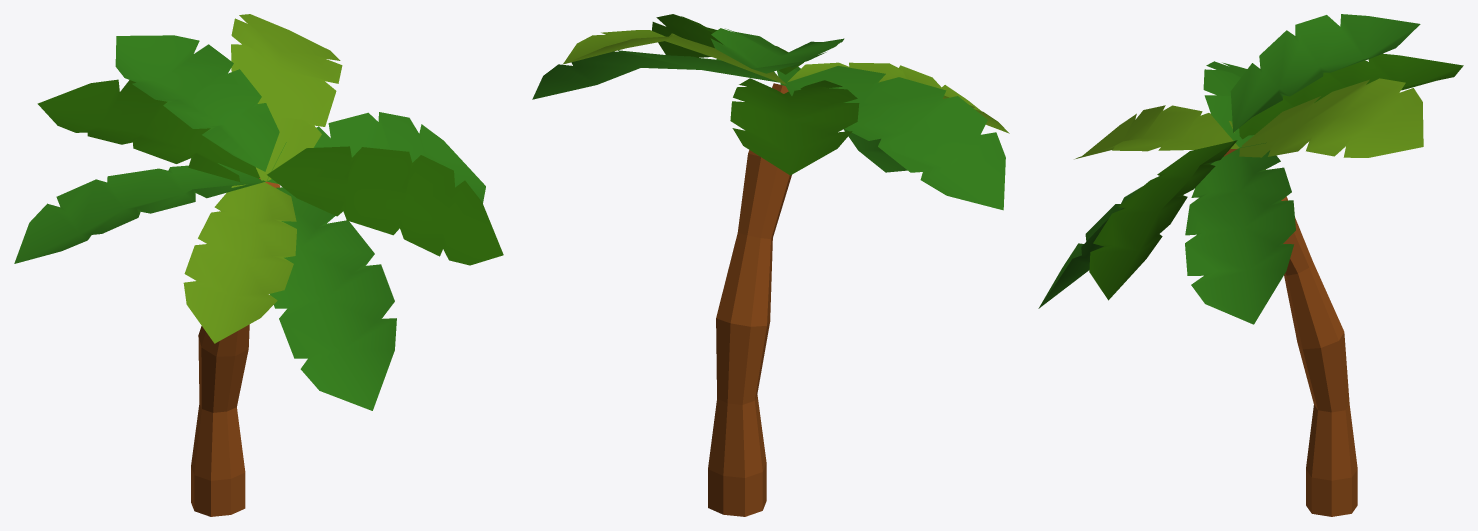
The model's file is Palmera.fbx.
3 renders of one model, left to right at view 1: azimuth 30°, elevation 25°; view 2: azimuth 150°, elevation 25°; view 3: azimuth 270°, elevation 25°, orthographic. The views are drawn at different scales.
Parts seen in each view (by area): view 1: Palm_Leaf.001_Plane.007, Palm_Leaf_4.001_Plane.016, Palm_Leaf_2.001_Plane.014, Palm_Leaf_8.001_Plane.021, Palm_Leaf_5.001_Plane.017, Palm_Leaf_7.001_Plane.020, Palm_Leaf_6.001_Plane.018, Palm_Trunk_Cube, Palm_Leaf_3.001_Plane.015; view 2: Palm_Trunk_Cube, Palm_Leaf_7.001_Plane.020, Palm_Leaf_6.001_Plane.018, Palm_Leaf_3.001_Plane.015, Palm_Leaf_8.001_Plane.021, Palm_Leaf_5.001_Plane.017, Palm_Leaf_2.001_Plane.014, Palm_Leaf_4.001_Plane.016, Palm_Leaf.001_Plane.007; view 3: Palm_Leaf_3.001_Plane.015, Palm_Trunk_Cube, Palm_Leaf_5.001_Plane.017, Palm_Leaf_8.001_Plane.021, Palm_Leaf_4.001_Plane.016, Palm_Leaf_2.001_Plane.014, Palm_Leaf_6.001_Plane.018, Palm_Leaf_7.001_Plane.020, Palm_Leaf.001_Plane.007.
Part boxes in pixels (<box>): Palm_Leaf.001_Plane.007: <box>270,187,396,410</box>; Palm_Leaf_4.001_Plane.016: <box>267,146,503,265</box>; Palm_Leaf_2.001_Plane.014: <box>183,182,296,343</box>; Palm_Leaf_8.001_Plane.021: <box>115,35,279,171</box>; Palm_Leaf_5.001_Plane.017: <box>231,14,342,182</box>; Palm_Leaf_7.001_Plane.020: <box>14,163,265,263</box>; Palm_Leaf_6.001_Plane.018: <box>37,79,259,182</box>; Palm_Trunk_Cube: <box>191,178,280,516</box>; Palm_Leaf_3.001_Plane.015: <box>266,112,485,203</box>; Palm_Trunk_Cube: <box>708,83,791,516</box>; Palm_Leaf_7.001_Plane.020: <box>785,66,1005,210</box>; Palm_Leaf_6.001_Plane.018: <box>730,78,859,175</box>; Palm_Leaf_3.001_Plane.015: <box>532,50,779,99</box>; Palm_Leaf_8.001_Plane.021: <box>710,28,844,73</box>; Palm_Leaf_5.001_Plane.017: <box>563,30,786,84</box>; Palm_Leaf_2.001_Plane.014: <box>787,62,1009,133</box>; Palm_Leaf_4.001_Plane.016: <box>651,14,803,74</box>; Palm_Leaf.001_Plane.007: <box>777,66,907,172</box>; Palm_Leaf_3.001_Plane.015: <box>1185,142,1295,324</box>; Palm_Trunk_Cube: <box>1223,148,1357,516</box>; Palm_Leaf_5.001_Plane.017: <box>1239,78,1423,157</box>; Palm_Leaf_8.001_Plane.021: <box>1230,14,1420,132</box>; Palm_Leaf_4.001_Plane.016: <box>1089,140,1237,300</box>; Palm_Leaf_2.001_Plane.014: <box>1074,105,1239,159</box>; Palm_Leaf_6.001_Plane.018: <box>1239,53,1463,139</box>; Palm_Leaf_7.001_Plane.020: <box>1203,61,1253,147</box>; Palm_Leaf.001_Plane.007: <box>1038,161,1214,308</box>.
Size of the model in its own units: 221 by 210 by 179.
